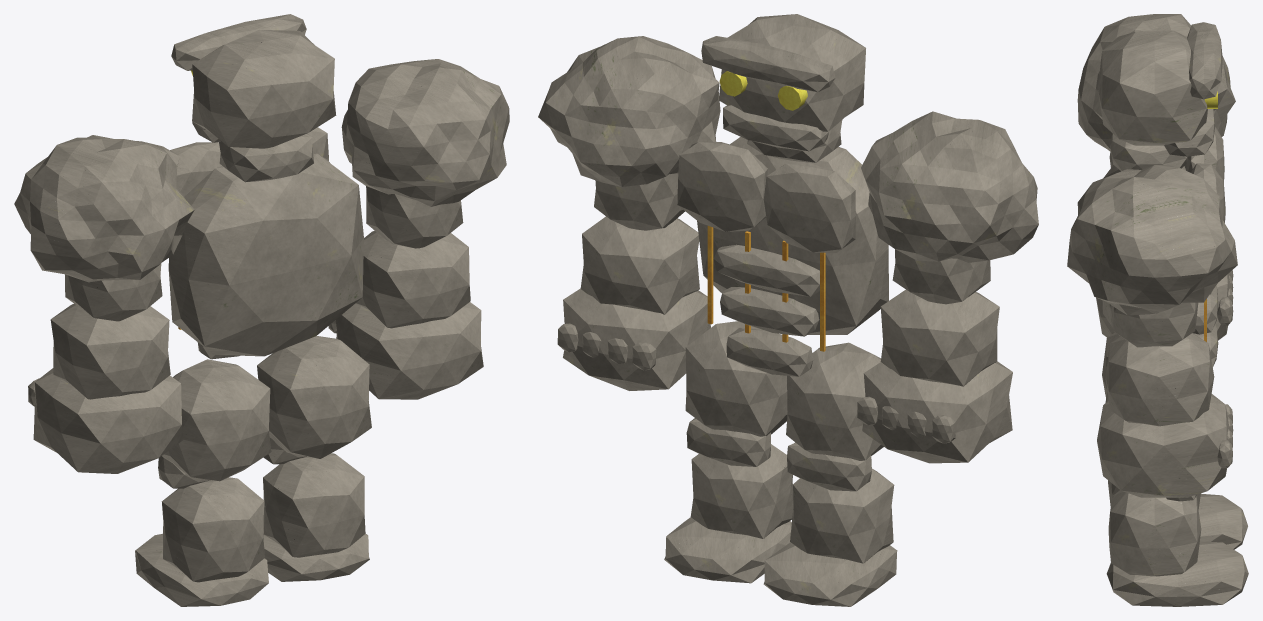
Rendered from HO_Char_EarthGolem.fbx.
The picture shows the model from 3 angles, left to right: view 1: azimuth 30°, elevation 25°; view 2: azimuth 150°, elevation 25°; view 3: azimuth 270°, elevation 25°; orthographic projection. The views are drawn at different scales.
Parts seen in each view (by area): view 1: HO_Char_EarthGolem_LeftArm, HO_Char_EarthGolem_RightArm, HO_Char_EarthGolem_Torso, HO_Char_EarthGolem_LeftLeg, HO_Char_EarthGolem_RightLeg, HO_Char_EarthGolem_Head; view 2: HO_Char_EarthGolem_LeftArm, HO_Char_EarthGolem_RightArm, HO_Char_EarthGolem_Torso, HO_Char_EarthGolem_LeftLeg, HO_Char_EarthGolem_RightLeg, HO_Char_EarthGolem_Head, HO_Char_EarthGolem_Torso_Glow, HO_Char_EarthGolem_Head_Glow; view 3: HO_Char_EarthGolem_RightArm, HO_Char_EarthGolem_Head, HO_Char_EarthGolem_RightLeg, HO_Char_EarthGolem_LeftArm, HO_Char_EarthGolem_Torso, HO_Char_EarthGolem_LeftLeg.
Boxes of the visible parts, x1,y1,x2,y2 form: HO_Char_EarthGolem_LeftArm: [14, 135, 194, 473]; HO_Char_EarthGolem_RightArm: [328, 59, 509, 399]; HO_Char_EarthGolem_Torso: [168, 127, 363, 359]; HO_Char_EarthGolem_LeftLeg: [135, 359, 271, 606]; HO_Char_EarthGolem_RightLeg: [257, 336, 371, 581]; HO_Char_EarthGolem_Head: [171, 14, 336, 182]; HO_Char_EarthGolem_LeftArm: [857, 111, 1038, 463]; HO_Char_EarthGolem_RightArm: [538, 36, 720, 390]; HO_Char_EarthGolem_Torso: [677, 136, 888, 376]; HO_Char_EarthGolem_LeftLeg: [763, 342, 897, 606]; HO_Char_EarthGolem_RightLeg: [664, 321, 793, 583]; HO_Char_EarthGolem_Head: [701, 14, 865, 162]; HO_Char_EarthGolem_Torso_Glow: [707, 226, 825, 351]; HO_Char_EarthGolem_Head_Glow: [719, 71, 807, 110]; HO_Char_EarthGolem_RightArm: [1067, 164, 1237, 497]; HO_Char_EarthGolem_Head: [1097, 22, 1222, 171]; HO_Char_EarthGolem_RightLeg: [1105, 392, 1248, 606]; HO_Char_EarthGolem_LeftArm: [1077, 14, 1235, 340]; HO_Char_EarthGolem_Torso: [1102, 127, 1225, 367]; HO_Char_EarthGolem_LeftLeg: [1102, 332, 1247, 549].
Bounding box in the file's own units: 11.44 × 12.41 × 3.87.
